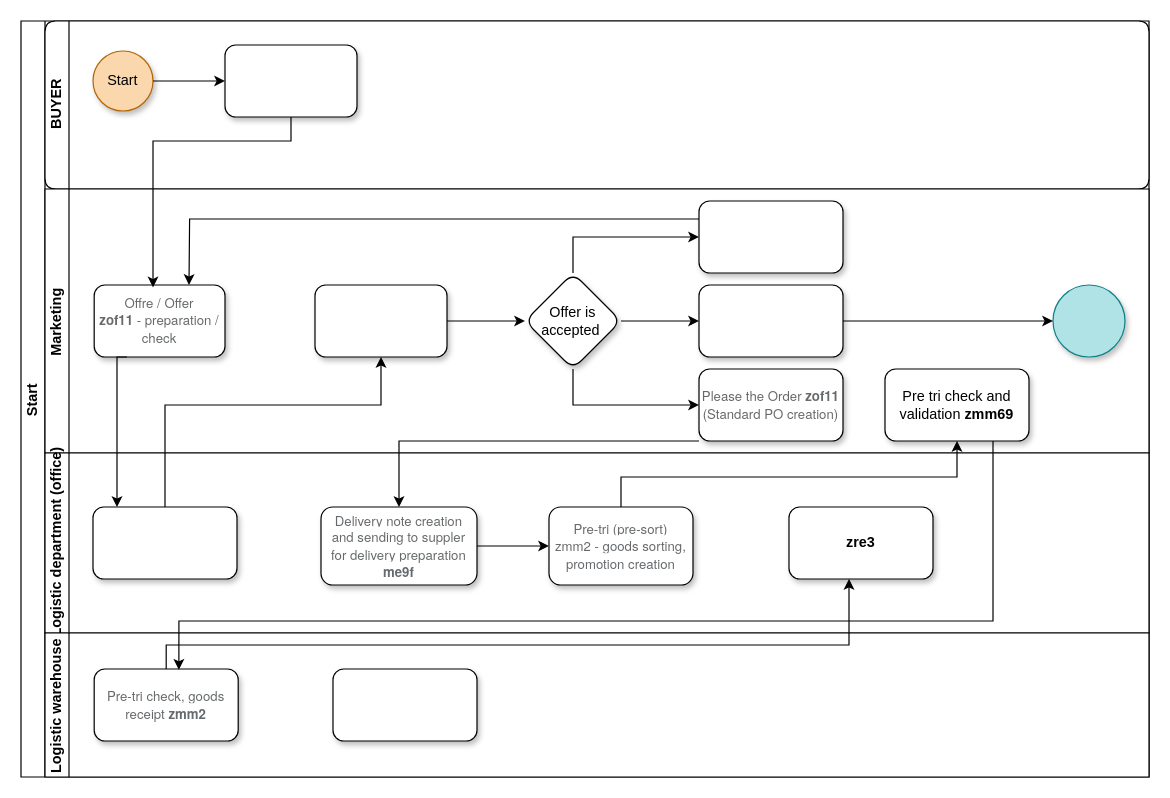
This 1170x798 diagram has some shape labels left out. The shapes that lost their labels are listed below. From the top down, each one's centre as x and y in pixels, then its label:
At (x=291, y=82): "Affaire / Opportunity (CRM) zof11".
At (x=771, y=238): "New Offer zof11".
At (x=381, y=322): "Offre / Offer zof11 - validation and sending offer to the supplier".
At (x=771, y=322): "Offer cancelation".
At (x=1089, y=322): "Finish".
At (x=165, y=544): "Delivery information (warehouse) zvalof".
At (x=405, y=706): "zre4p".
